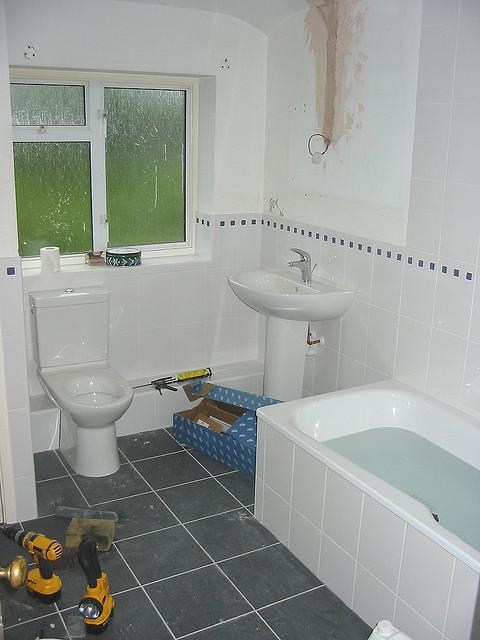Lavamanos: (226, 241, 353, 330)
Otro Obstaculo: (172, 373, 305, 494), (61, 532, 133, 630), (4, 516, 63, 607), (145, 364, 219, 402), (70, 503, 128, 547)
Sanitario: (31, 282, 140, 478)
